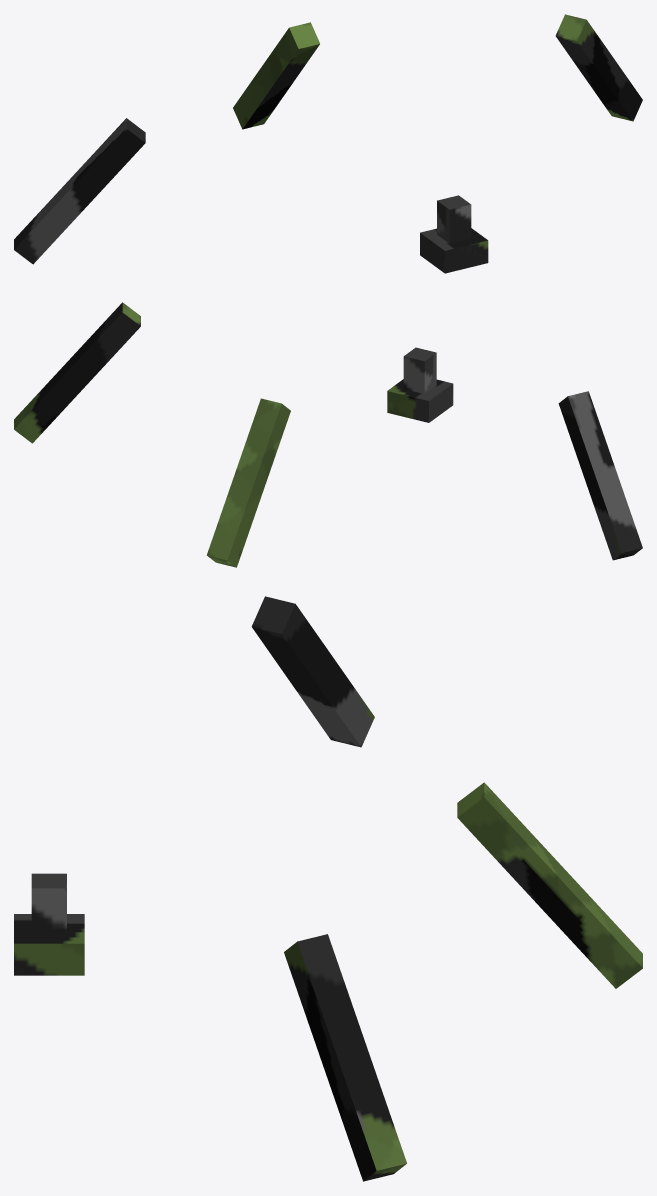
Rendered from sentry_turret.obj.
3 views of the same model, one above another, from view 1: azimuth 30°, elevation 25°; view 2: azimuth 150°, elevation 25°; view 3: azimuth 270°, elevation 25° (orthographic). The views are drawn at different scales.
Size of the model in its own units: 1.85 by 0.4155 by 1.11.
